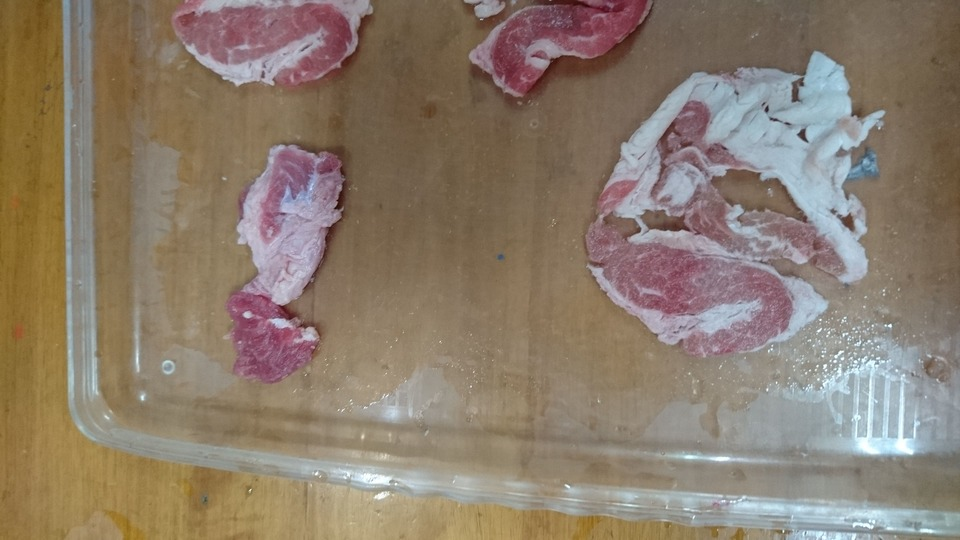restructured meat: (586, 47, 880, 358), (237, 140, 338, 388), (173, 1, 367, 82)
